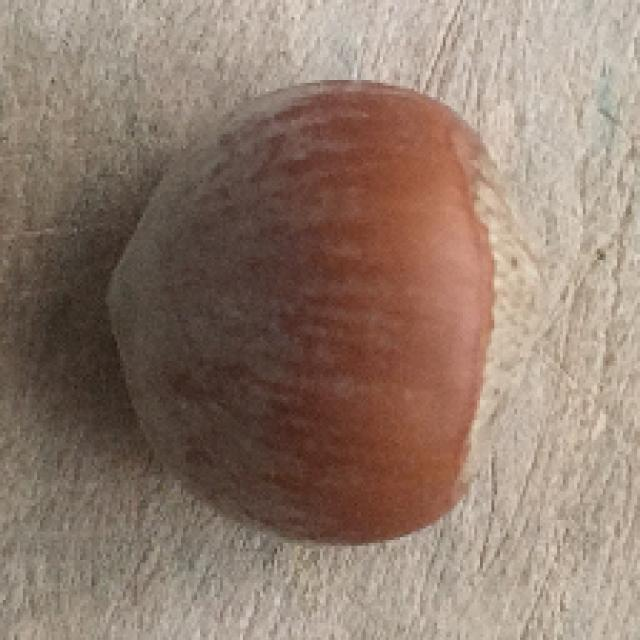qualityHazelnut: (111, 81, 548, 544)
